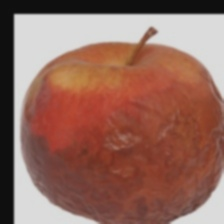apple: (25, 21, 183, 209)
